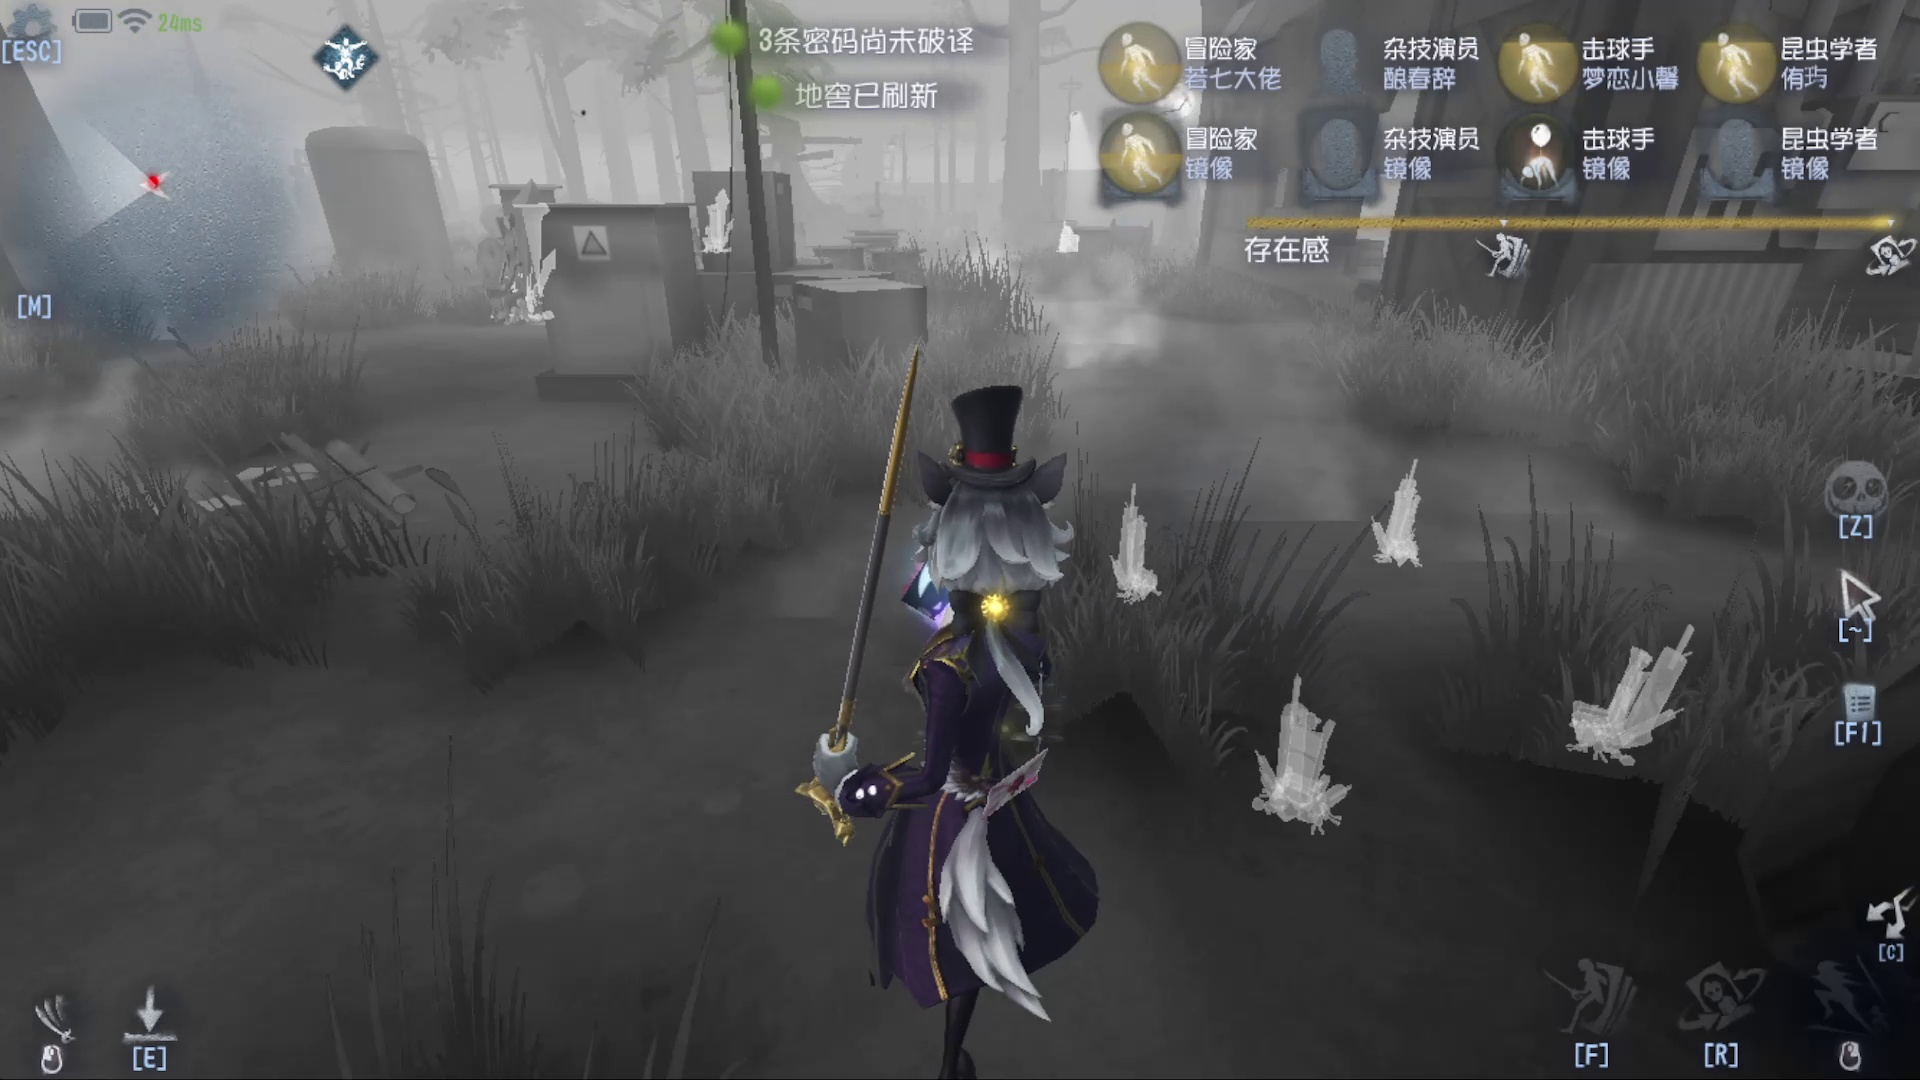密码机: (1305, 419, 1470, 595), (1048, 70, 1097, 266)
木板: (472, 182, 568, 332)
狂欢之椅: (1563, 605, 1710, 783), (1240, 671, 1369, 841), (1088, 476, 1180, 615), (694, 179, 754, 273)
